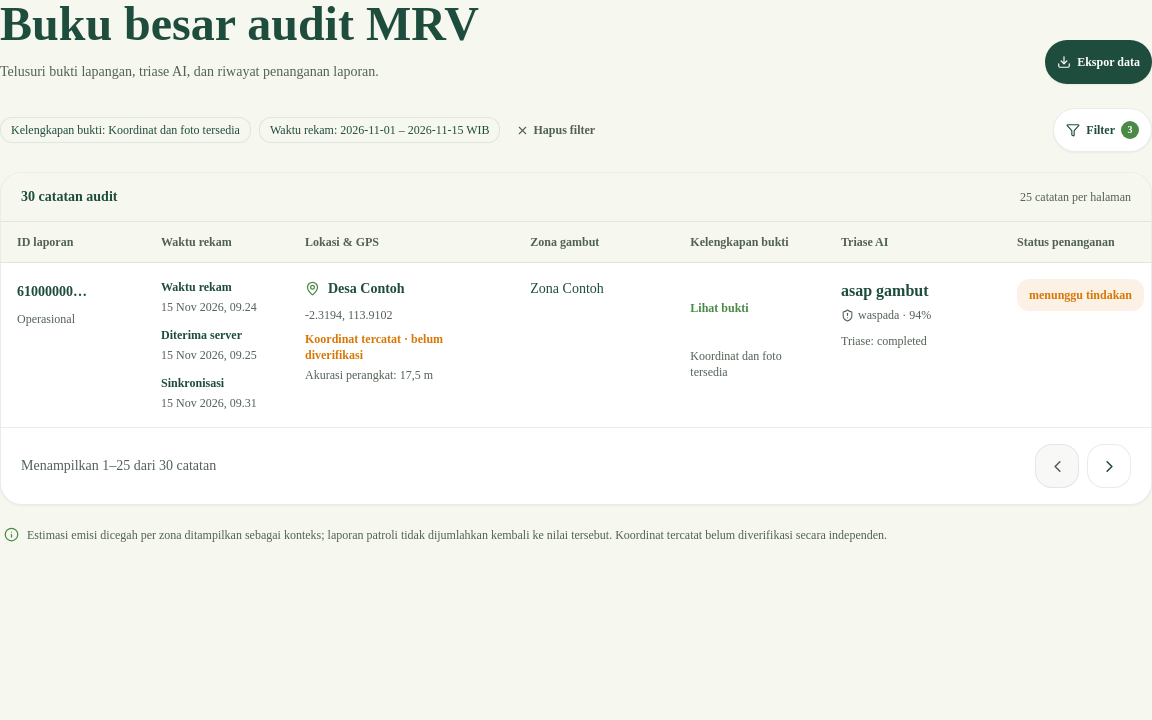
export dialog summarizes scope and blocks results above the endpoint cap
The image size is (1152, 720).
Click the button "Ekspor data".
click(1099, 62)  # box left=1045, top=40, right=1151, bottom=84
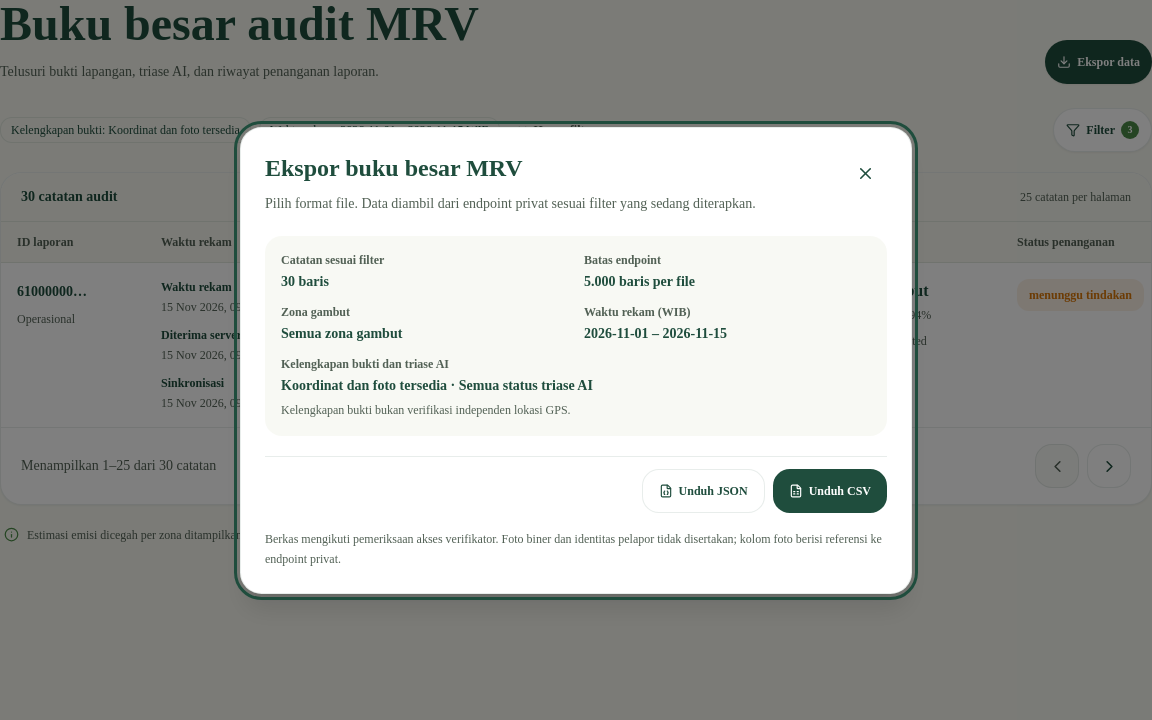
Result: the dialog "Ekspor buku besar MRV" is shown at left=240, top=126, right=912, bottom=594
Result: the text "30 baris" is shown at left=281, top=274, right=329, bottom=288
Result: the text "2026-11-01 – 2026-11-15" is shown at left=584, top=326, right=727, bottom=340
